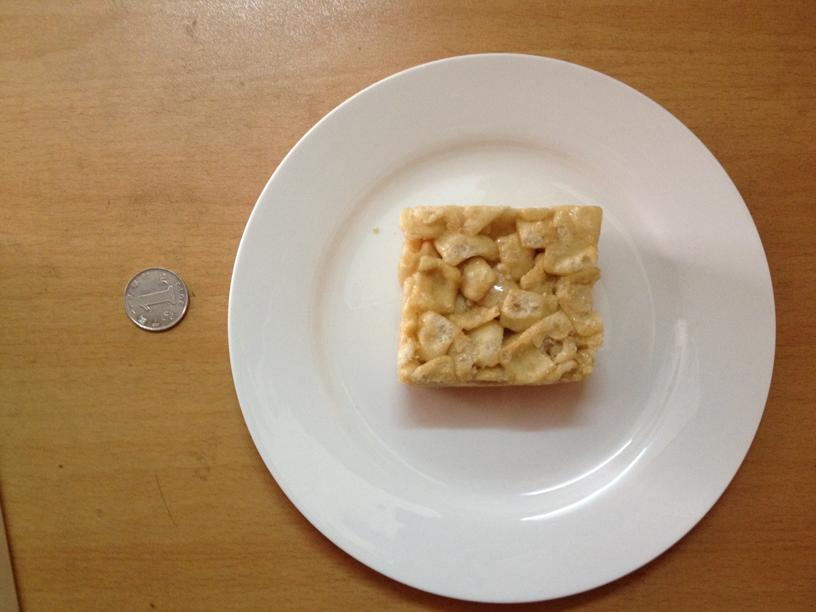coin: (125, 269, 190, 329)
sachima: (392, 200, 601, 388)
